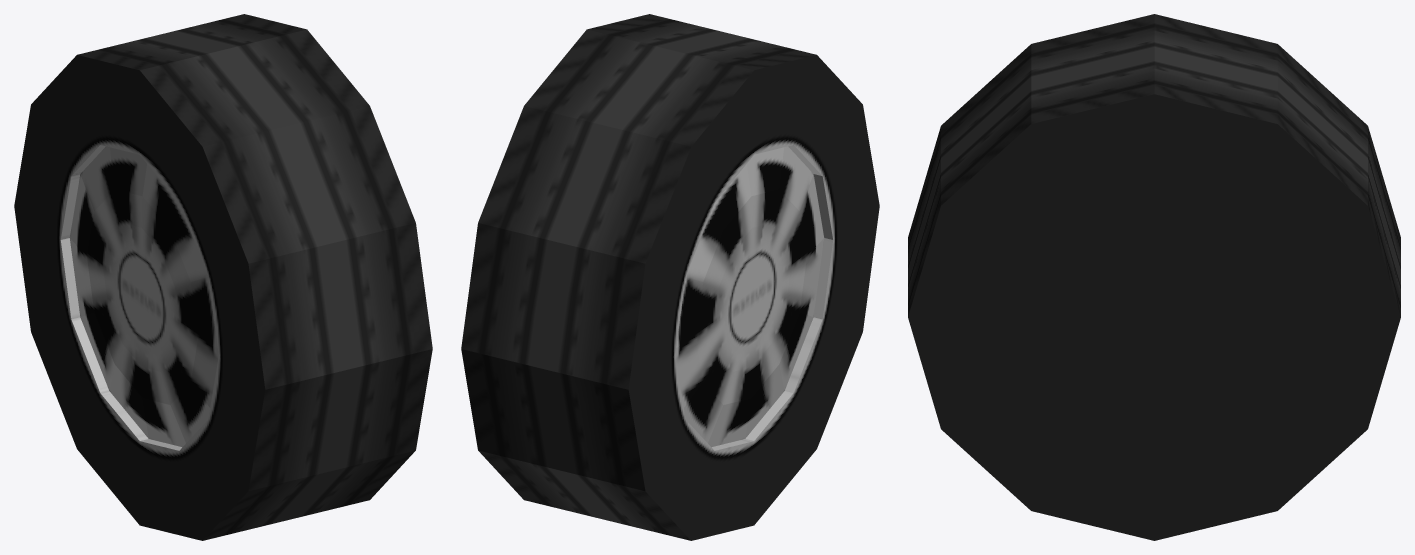
Rendered from vehicle_fhqMX5NAWheel.fbx.
3 renders of one model, left to right at view 1: azimuth 30°, elevation 25°; view 2: azimuth 150°, elevation 25°; view 3: azimuth 270°, elevation 25°, orthographic.
Visible parts, largest first — view 1: MX5Wheel.001; view 2: MX5Wheel.001; view 3: MX5Wheel.001.
Part boxes in pixels (bbox=[...]): MX5Wheel.001: bbox=[14, 14, 432, 540]; MX5Wheel.001: bbox=[461, 14, 879, 540]; MX5Wheel.001: bbox=[908, 14, 1400, 540].
Size of the model in its own units: 0.2979 by 0.7739 by 0.7739.
